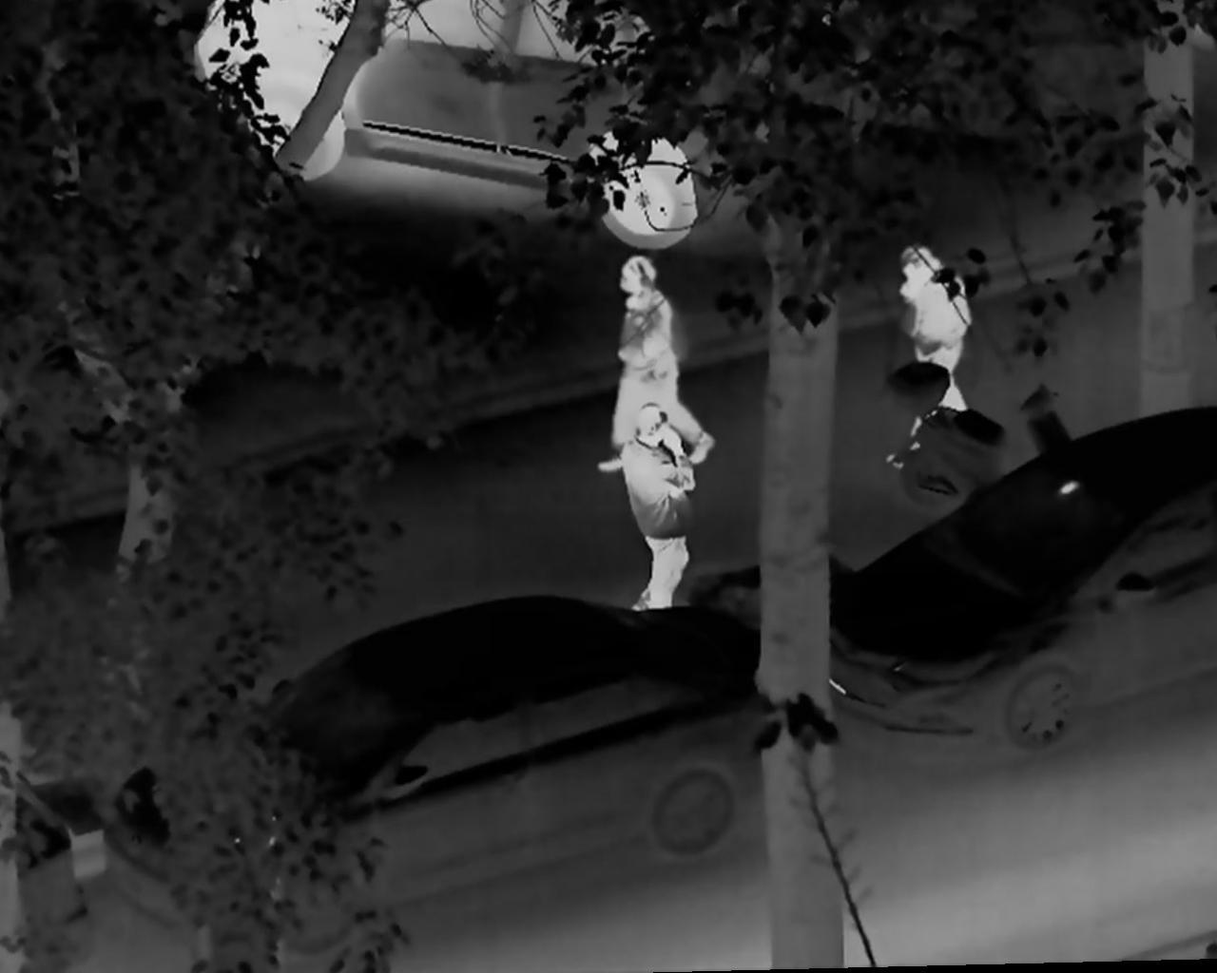person: (587, 253, 720, 480), (608, 398, 703, 619), (885, 245, 976, 467)
